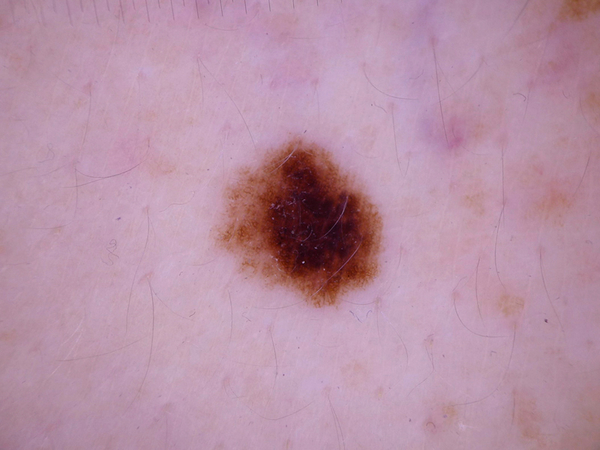Detected Lesion: (213, 134, 386, 310)
